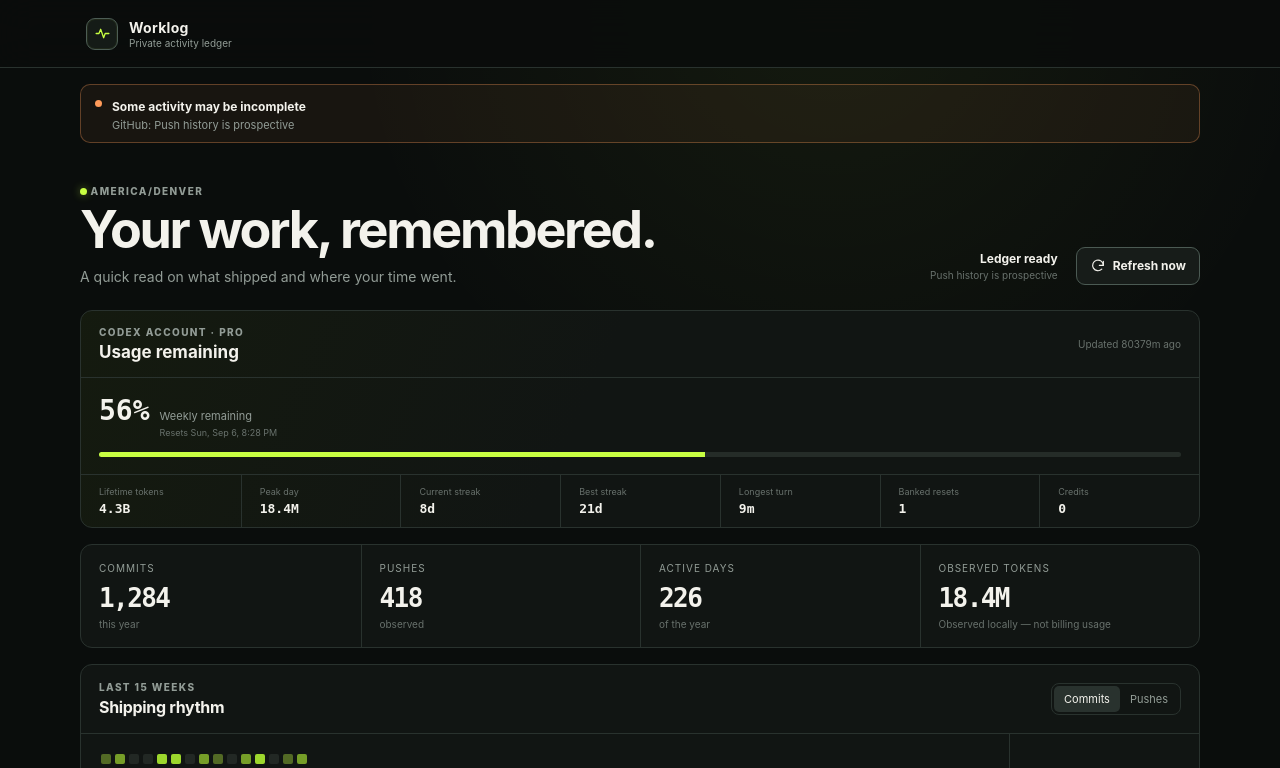
Test: compact work ledger › keeps commit and push heatmap metrics independent
The width and height of the screenshot is (1280, 768).
Click the button "pushes".
click(1149, 699)  # box [1120,686,1178,712]
(page scrolled)
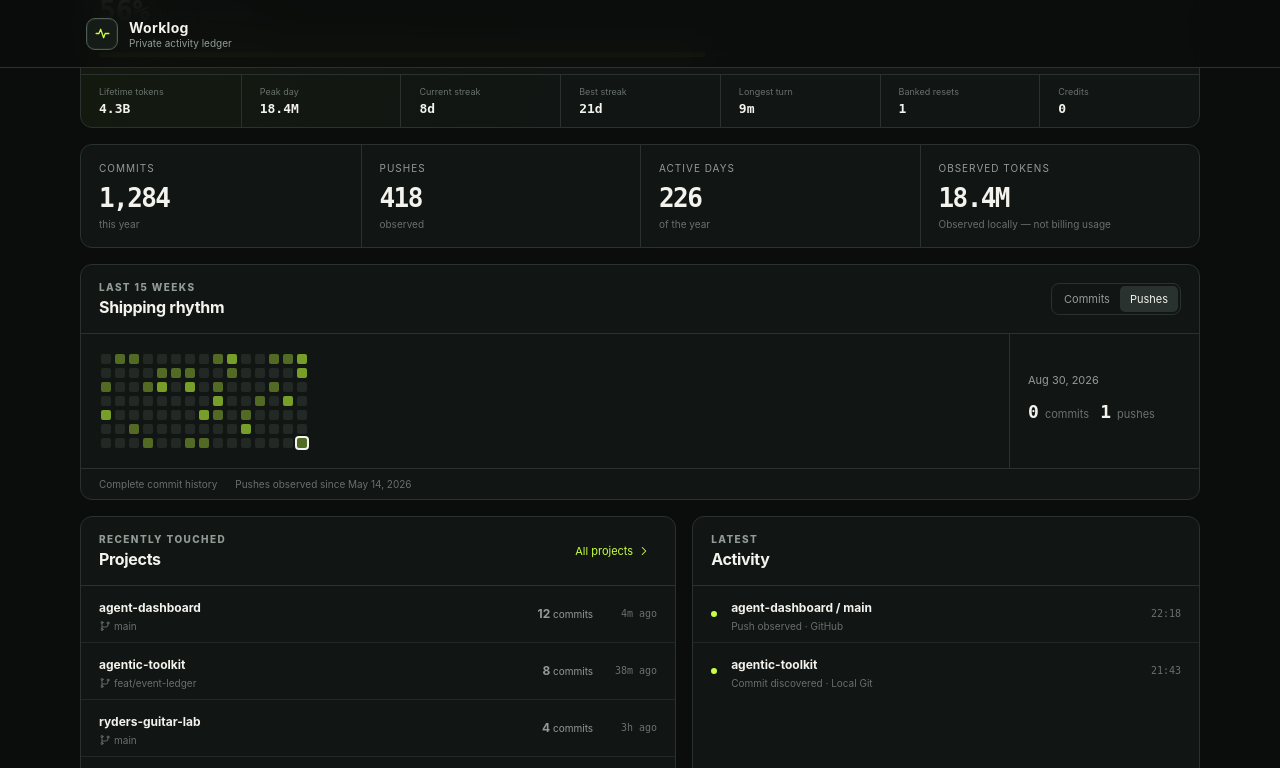
Check: the element named "Daily pushes heatmap" is shown, box [101,354,307,448]
